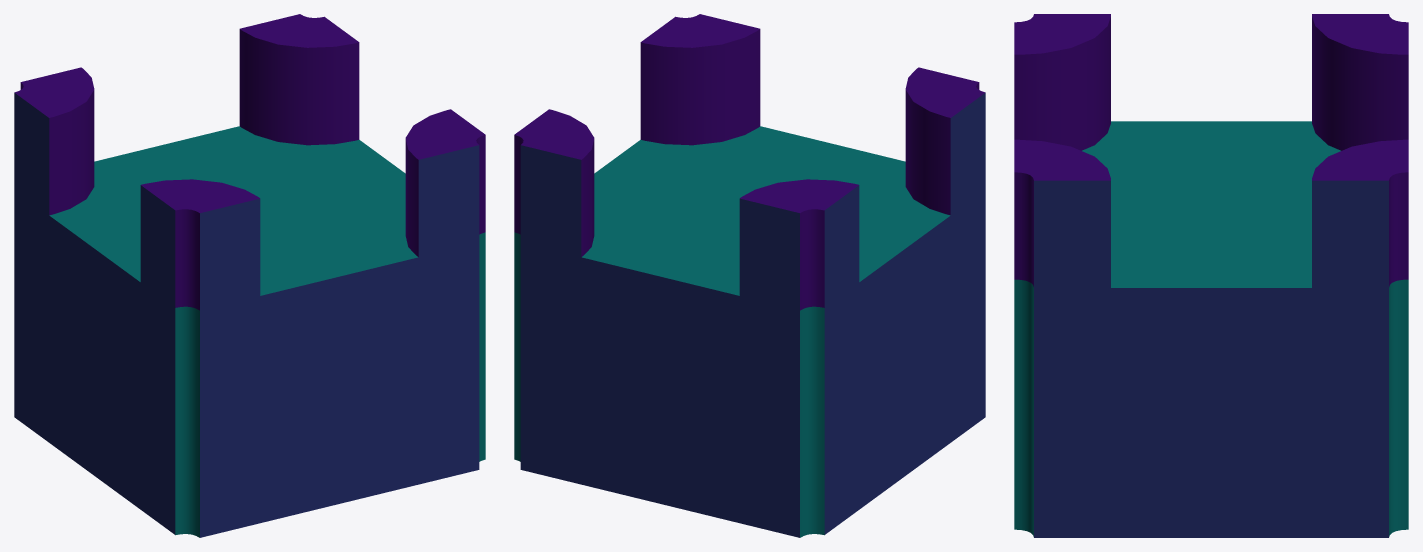
Rendered from Roof_05_O_L.fbx.
3 renders of one model, left to right at view 1: azimuth 30°, elevation 25°; view 2: azimuth 150°, elevation 25°; view 3: azimuth 270°, elevation 25°, orthographic. The views are drawn at different scales.
Parts seen in each view (by area): view 1: 3, 1, 4, 2; view 2: 4, 2, 3, 1; view 3: 1, 2, 3, 4.
Part boxes in pixels (left/top/right/bottom): 3: left=95, top=179, right=339, bottom=537; 1: left=260, top=109, right=485, bottom=503; 4: left=14, top=67, right=208, bottom=475; 2: left=160, top=14, right=404, bottom=208; 4: left=660, top=179, right=904, bottom=537; 2: left=514, top=109, right=739, bottom=503; 3: left=791, top=67, right=985, bottom=475; 1: left=595, top=14, right=839, bottom=208; 1: left=1014, top=139, right=1211, bottom=537; 2: left=1211, top=139, right=1408, bottom=537; 3: left=1014, top=14, right=1211, bottom=204; 4: left=1211, top=14, right=1408, bottom=204.
Bounding box in the file's own units: 200 × 200 × 200.
